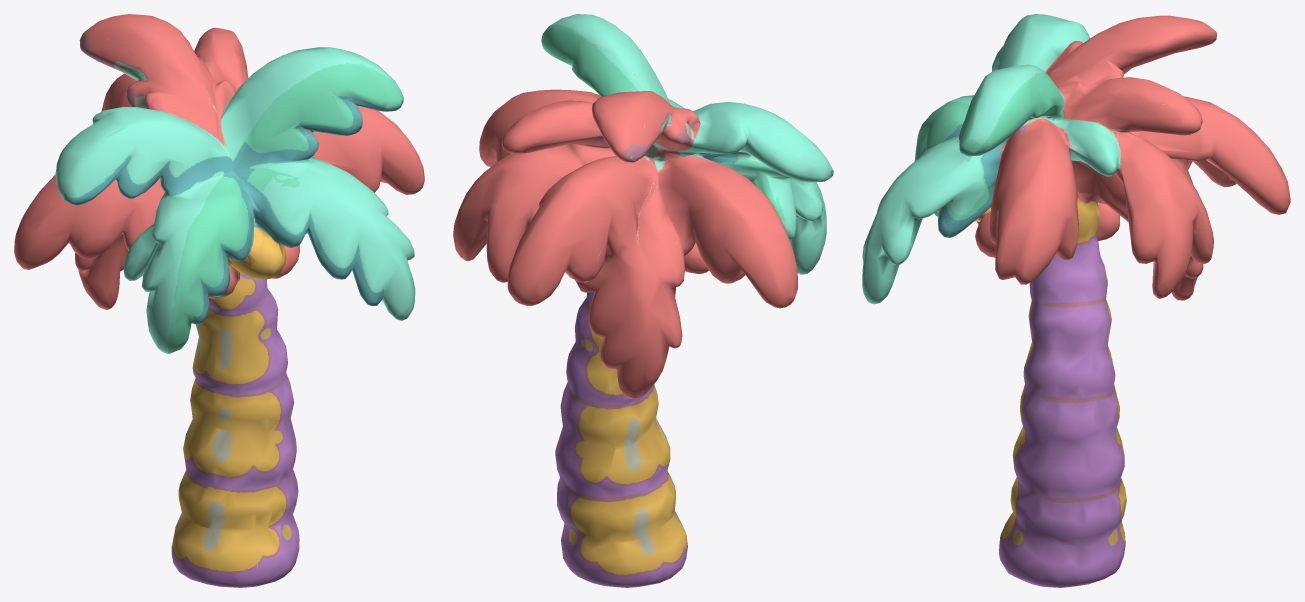
Rendered from tree_palm.glb.
3 renders of one model, left to right at view 1: azimuth 30°, elevation 25°; view 2: azimuth 150°, elevation 25°; view 3: azimuth 270°, elevation 25°, orthographic. The views are drawn at different scales.
Visible parts, largest first — view 1: Mesh_0; view 2: Mesh_0; view 3: Mesh_0.
Boxes of the visible parts, box(x1,y1,x2,y2) form: Mesh_0: box(14, 14, 424, 587); Mesh_0: box(453, 14, 833, 587); Mesh_0: box(862, 14, 1290, 587).
Bounding box in the file's own units: 1.37 × 1.9 × 1.41.
1 material, 1 textured.
